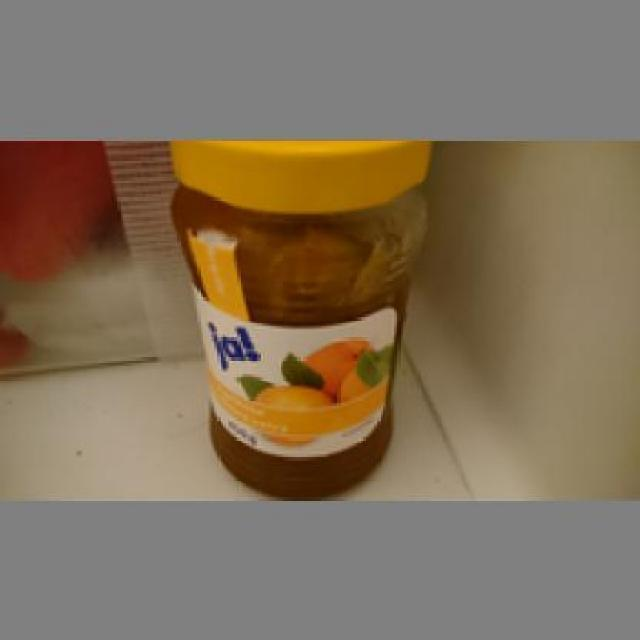Jam: (166, 137, 432, 494)
